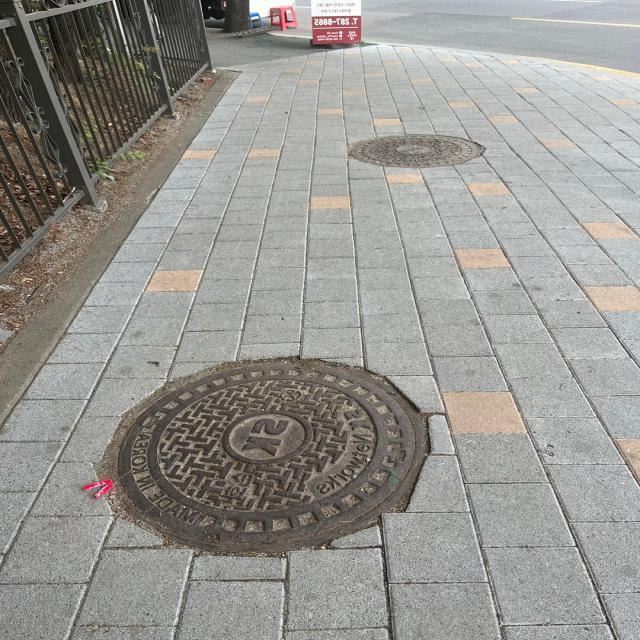Sewer Cover: (81, 339, 453, 564), (332, 120, 487, 183)
